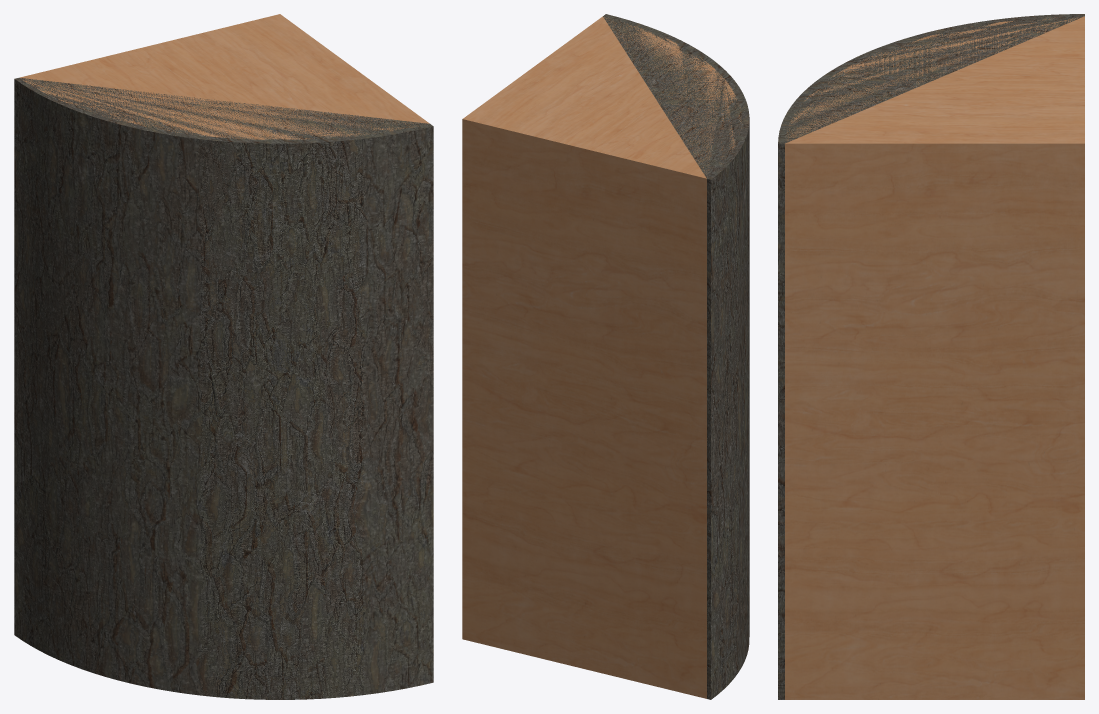
Rendered from Log.fbx.
3 views of the same model, side by side, from view 1: azimuth 30°, elevation 25°; view 2: azimuth 150°, elevation 25°; view 3: azimuth 270°, elevation 25° (orthographic). The views are drawn at different scales.
Parts seen in each view (by area): view 1: Bark, Wood; view 2: Wood, Bark; view 3: Wood, Bark.
Boxes of the visible parts, x1,y1,x2,y2 form: Bark: (14,77,433,699); Wood: (20,14,429,139); Wood: (462,16,741,698); Bark: (603,14,749,699); Wood: (785,16,1084,699); Bark: (778,14,1084,699).
Size of the model in its own units: 100 by 200 by 100.
